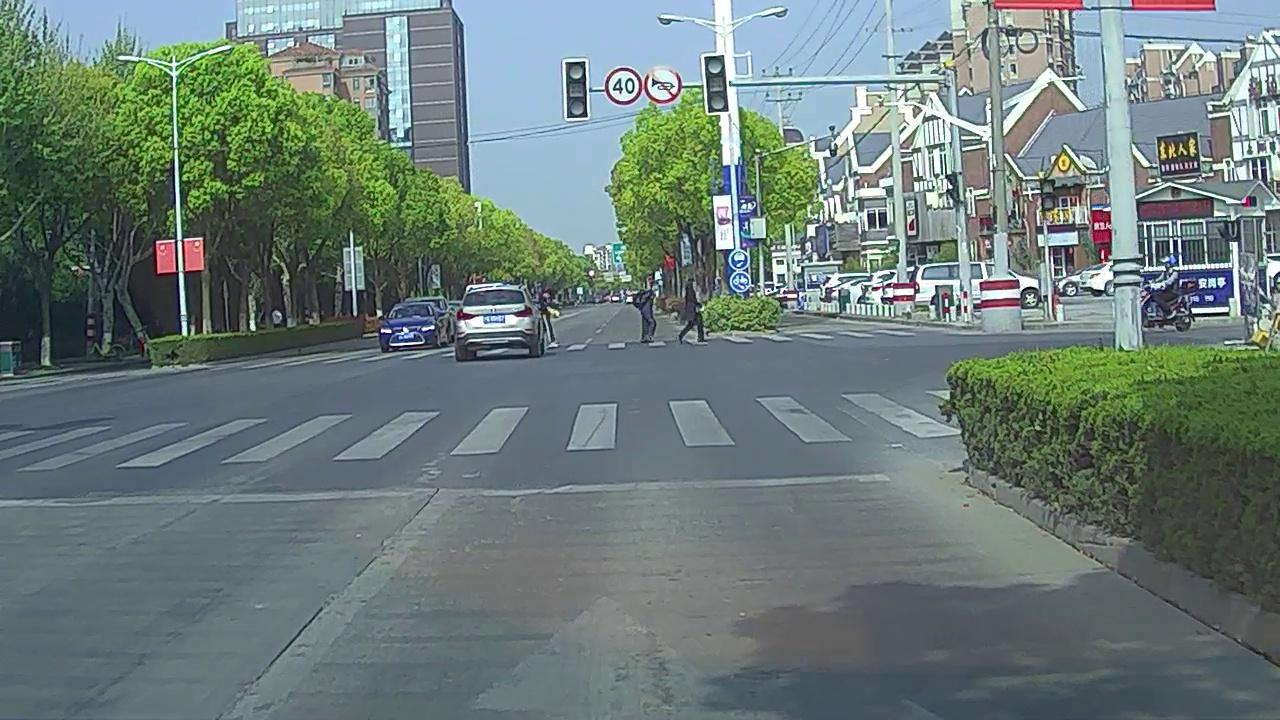traffic_light: (564, 61, 587, 119), (704, 56, 728, 111)
